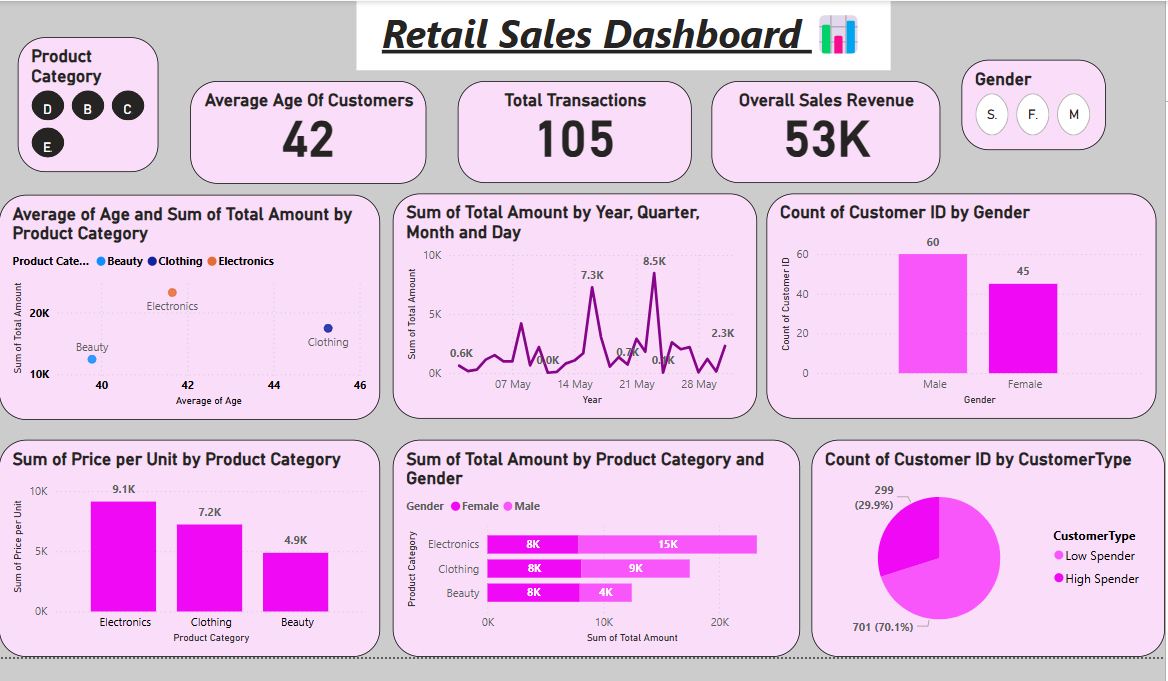

Layout of this report page (visuals, bound fields, positions):
{"tool":"powerbi","page":{"name":"Page 1","canvas":[1280,720],"ordinal":0},"visuals":[{"type":"textbox","box":[391.8,0,586.3,75.9],"z":0},{"type":"card","title":"Overall Sales Revenue","fields":{"Values":["Sum(raw_dataset.Total Amount)"]},"box":[782.2,88.3,251.1,111.7],"z":1000},{"type":"card","title":"Total Transactions","fields":{"Values":["CountNonNull(raw_dataset.Transaction ID)"]},"box":[503.6,88.3,256.6,111.7],"z":2000},{"type":"columnChart","fields":{"Category":["raw_dataset.Gender"],"Y":["CountNonNull(raw_dataset.Customer ID)"]},"box":[842.9,211.1,427.7,247],"z":3000},{"type":"card","title":"Average Age Of Customers","fields":{"Values":["Avg(raw_dataset.Age)"]},"box":[209.7,88.3,259.4,113.1],"z":4000},{"type":"lineChart","fields":{"Y":["Sum(raw_dataset.Total Amount)"],"Category":["raw_dataset.Date.Variation.Date Hierarchy.Year","raw_dataset.Date.Variation.Date Hierarchy.Quarter","raw_dataset.Date.Variation.Date Hierarchy.Month","raw_dataset.Date.Variation.Date Hierarchy.Day"]},"box":[431.8,211.1,400.1,247],"z":5000},{"type":"scatterChart","fields":{"X":["Avg(raw_dataset.Age)"],"Y":["Sum(raw_dataset.Total Amount)"],"Series":["raw_dataset.Product Category"]},"box":[0,212.5,418,247],"z":6000},{"type":"pieChart","fields":{"Category":["CustomerSpending.CustomerType"],"Y":["CountNonNull(CustomerSpending.Customer ID)"]},"box":[892.6,481.5,387.7,238.7],"z":7000},{"type":"columnChart","fields":{"Category":["raw_dataset.Product Category"],"Y":["Sum(raw_dataset.Price per Unit)"]},"box":[0,481.5,418,238.7],"z":8000},{"type":"barChart","fields":{"Category":["raw_dataset.Product Category"],"Y":["Sum(raw_dataset.Total Amount)"],"Series":["raw_dataset.Gender"]},"box":[431.8,481.5,447,238.7],"z":9000},{"type":"advancedSlicerVisual","fields":{"Values":["raw_dataset.Product Category"]},"box":[20.7,40,154.5,147.6],"z":9001},{"type":"advancedSlicerVisual","fields":{"Values":["raw_dataset.Gender"]},"box":[1056.8,64.8,158.7,99.3],"z":9002}]}

Visuals, with their boxes on the page's 1280x720 design canvas (x1, y1, x2, y2). These are canvas units, not pixel positions in the 1168x681 screenshot, which may show the page scaled, cropped or inside an application window:
textbox: {"x1": 392, "y1": 0, "x2": 978, "y2": 76}
"Overall Sales Revenue" card: {"x1": 782, "y1": 88, "x2": 1033, "y2": 200}
"Total Transactions" card: {"x1": 504, "y1": 88, "x2": 760, "y2": 200}
columnChart - raw_dataset.Gender x CountNonNull(raw_dataset.Customer ID): {"x1": 843, "y1": 211, "x2": 1271, "y2": 458}
"Average Age Of Customers" card: {"x1": 210, "y1": 88, "x2": 469, "y2": 201}
lineChart - Sum(raw_dataset.Total Amount) x raw_dataset.Date.Variation.Date Hierarchy.Year: {"x1": 432, "y1": 211, "x2": 832, "y2": 458}
scatterChart - Avg(raw_dataset.Age) x Sum(raw_dataset.Total Amount): {"x1": 0, "y1": 212, "x2": 418, "y2": 460}
pieChart - CustomerSpending.CustomerType x CountNonNull(CustomerSpending.Customer ID): {"x1": 893, "y1": 482, "x2": 1280, "y2": 720}
columnChart - raw_dataset.Product Category x Sum(raw_dataset.Price per Unit): {"x1": 0, "y1": 482, "x2": 418, "y2": 720}
barChart - raw_dataset.Product Category x Sum(raw_dataset.Total Amount): {"x1": 432, "y1": 482, "x2": 879, "y2": 720}
advancedSlicerVisual - raw_dataset.Product Category: {"x1": 21, "y1": 40, "x2": 175, "y2": 188}
advancedSlicerVisual - raw_dataset.Gender: {"x1": 1057, "y1": 65, "x2": 1216, "y2": 164}
